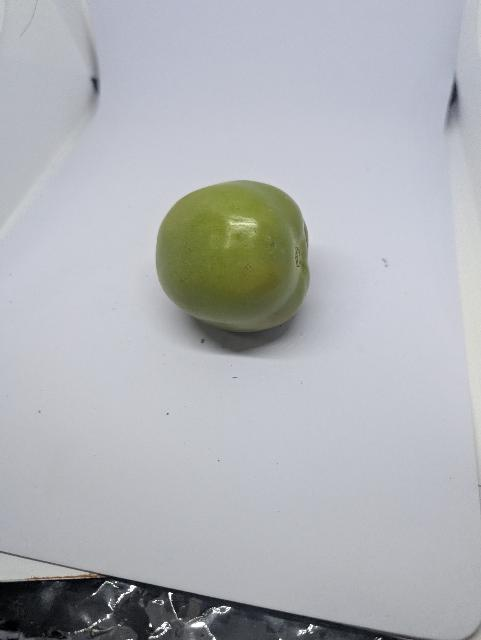green: (155, 179, 313, 331)
